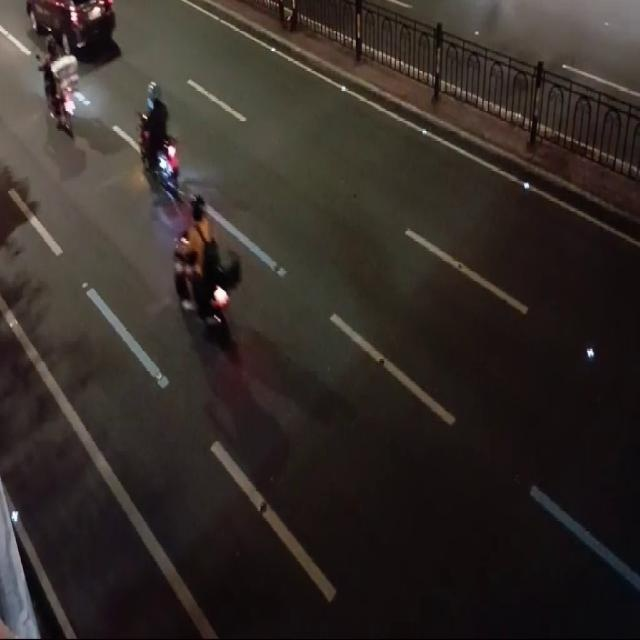motorcycle: (170, 204, 241, 339), (134, 70, 181, 201), (34, 31, 77, 140)
